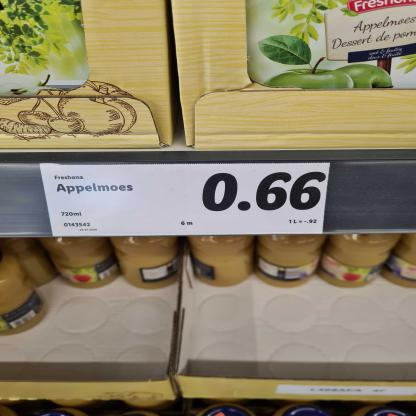prtg: (42, 164, 331, 237)
